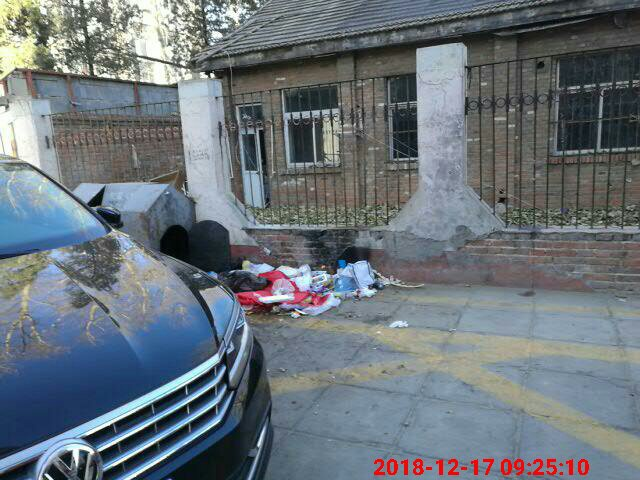trash: (143, 160, 444, 330)
